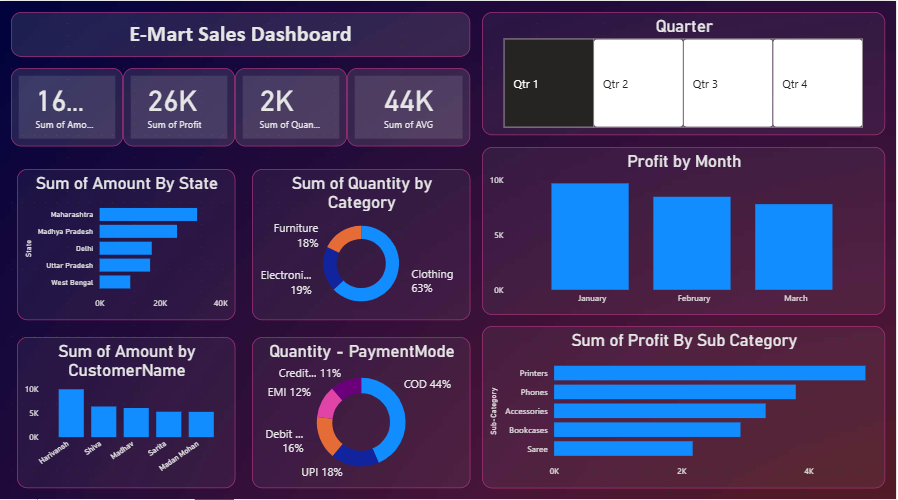

This screenshot's page, from the dashboard's own definition file:
{"tool":"powerbi","page":{"name":"E-Mart Sales Analysis","canvas":[1280,720],"ordinal":0},"visuals":[{"type":"textbox","box":[16,16,656,64],"z":0},{"type":"columnChart","title":"Profit by Month","fields":{"Category":["Orders.Order Date.Variation.Date Hierarchy.Month"],"Y":["Sum(Details.Profit)"]},"box":[688,208,576,240],"z":1000},{"type":"barChart","title":"Sum of Profit By Sub Category","fields":{"Category":["Details.Sub-Category"],"Y":["Sum(Details.Profit)"]},"box":[688,464,576,232],"z":2000},{"type":"donutChart","fields":{"Category":["Details.Category"],"Y":["Sum(Details.Quantity)"]},"box":[360,240,312,216],"z":3000},{"type":"donutChart","title":"Quantity - PaymentMode","fields":{"Category":["Details.PaymentMode"],"Y":["Sum(Details.Quantity)"]},"box":[360,480,312,216],"z":4000},{"type":"columnChart","fields":{"Category":["Orders.CustomerName"],"Y":["Sum(Details.Amount)"]},"box":[24,480,312,216],"z":5000},{"type":"cardVisual","fields":{"Data":["Sum(Details.Amount)"]},"box":[16,96,160,112],"z":6000},{"type":"cardVisual","fields":{"Data":["Sum(Details.Quantity)"]},"box":[336,96,160,112],"z":7000},{"type":"cardVisual","fields":{"Data":["Sum(Details.Profit)"]},"box":[176,96,160,112],"z":8000},{"type":"cardVisual","fields":{"Data":["Sum(Details.AVG)"]},"box":[496,96,176,112],"z":9000},{"type":"barChart","title":"Sum of Amount By State","fields":{"Category":["Orders.State"],"Y":["Sum(Details.Amount)"]},"box":[24,240,312,216],"z":10000},{"type":"advancedSlicerVisual","fields":{"Values":["Orders.Order Date.Variation.Date Hierarchy.Quarter"]},"box":[688,16,576,176],"z":11000}]}

Visuals, with their boxes in screenshot pixels (x1, y1, x2, y2), scaled from the page's 1280x720 canvas onto the 898x500 screenshot:
textbox: box(11, 11, 471, 56)
"Profit by Month" columnChart: box(483, 144, 887, 311)
"Sum of Profit By Sub Category" barChart: box(483, 322, 887, 483)
donutChart - Details.Category x Sum(Details.Quantity): box(253, 167, 471, 317)
"Quantity - PaymentMode" donutChart: box(253, 333, 471, 483)
columnChart - Orders.CustomerName x Sum(Details.Amount): box(17, 333, 236, 483)
cardVisual - Sum(Details.Amount): box(11, 67, 123, 144)
cardVisual - Sum(Details.Quantity): box(236, 67, 348, 144)
cardVisual - Sum(Details.Profit): box(123, 67, 236, 144)
cardVisual - Sum(Details.AVG): box(348, 67, 471, 144)
"Sum of Amount By State" barChart: box(17, 167, 236, 317)
advancedSlicerVisual - Orders.Order Date.Variation.Date Hierarchy.Quarter: box(483, 11, 887, 133)
